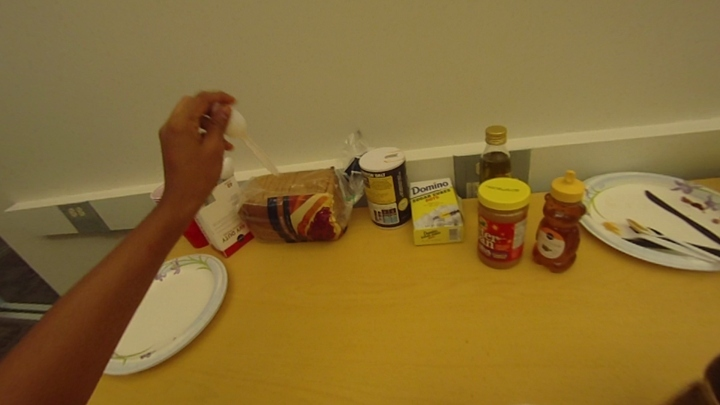hand: (155, 84, 237, 208)
